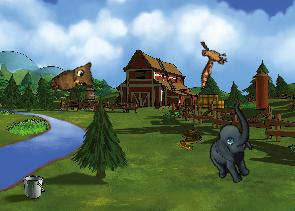eagle: (186, 35, 234, 90)
elephant: (191, 101, 275, 189)
owl: (47, 57, 101, 105)
